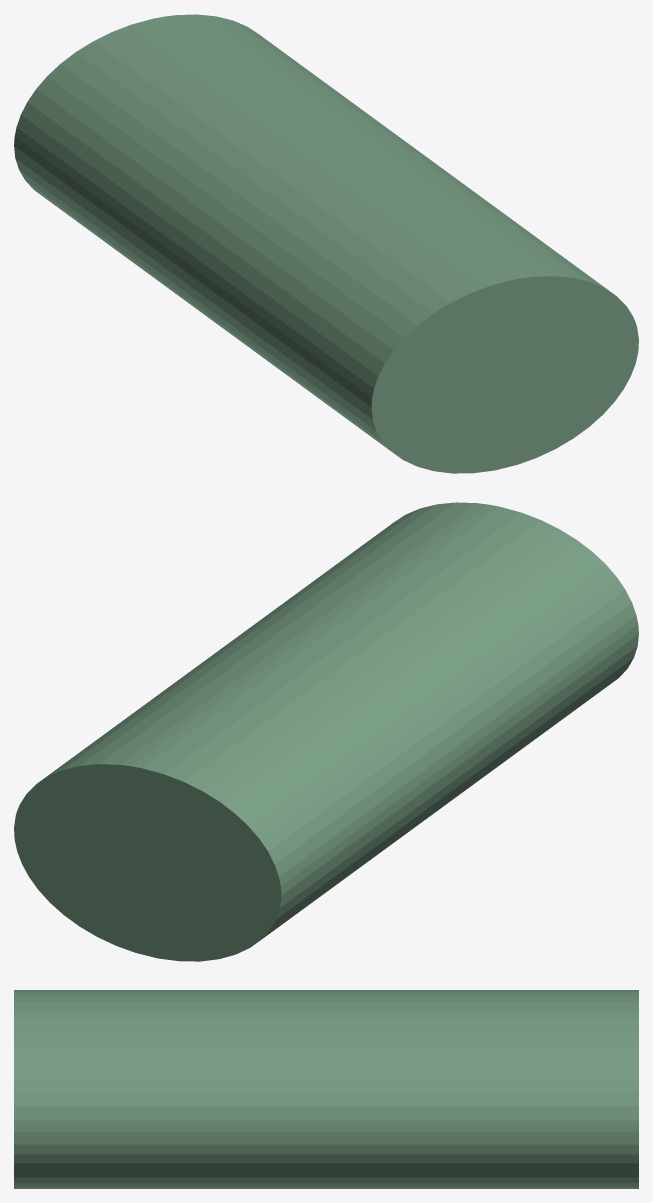
The model's file is peg_46_body.obj.
The picture shows the model from 3 angles, top to bottom: view 1: azimuth 30°, elevation 25°; view 2: azimuth 150°, elevation 25°; view 3: azimuth 270°, elevation 25°; orthographic projection. The views are drawn at different scales.
Parts seen in each view (by area): view 1: geometry_0; view 2: geometry_0; view 3: geometry_0.
Part boxes in pixels (bbox=[...]): geometry_0: bbox=[14, 14, 638, 473]; geometry_0: bbox=[14, 502, 638, 961]; geometry_0: bbox=[14, 990, 638, 1188].
Bounding box in the file's own units: 0.0432 × 0.0287 × 0.1.
